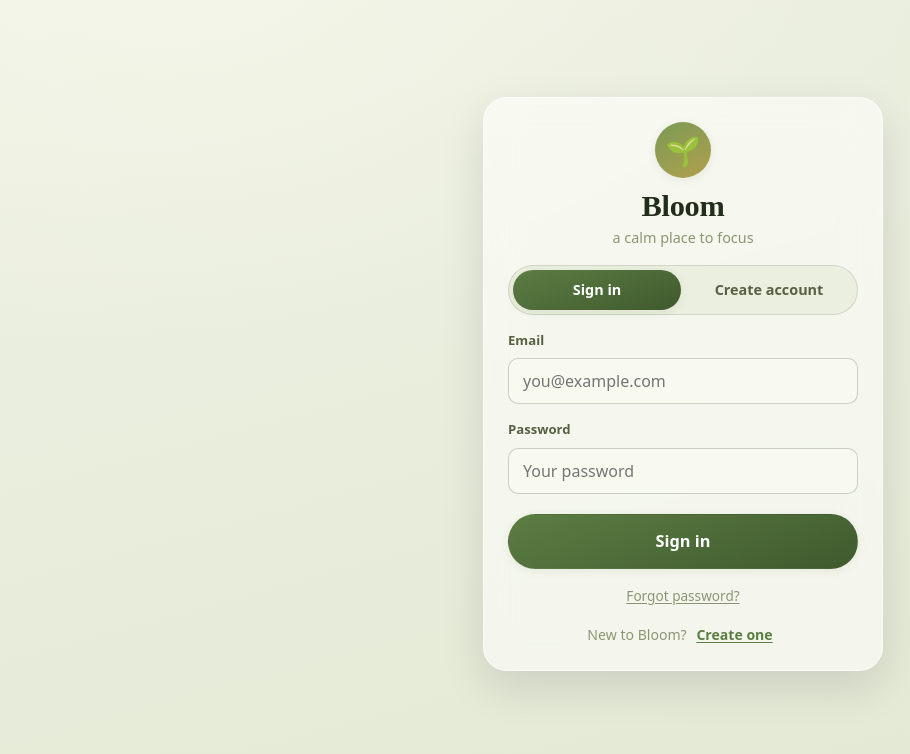
Test: LoginPage › sends a password reset for a valid email
In the field labelled "Email": [683, 381] box x1=508 y1=358 x2=858 y2=404, type "user@example.com"
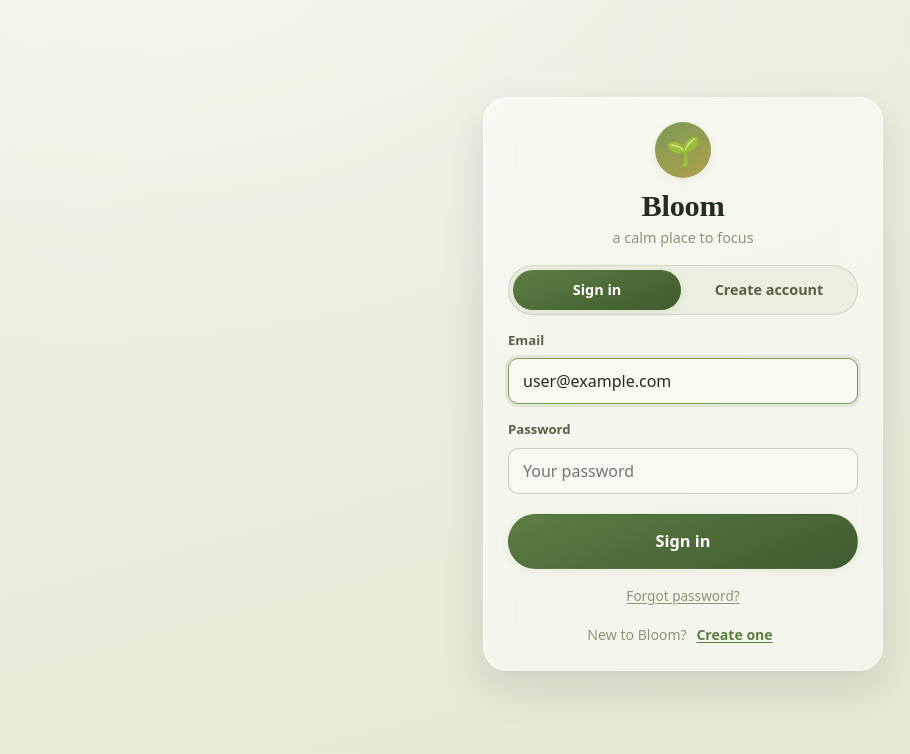
Click the button "Forgot password?": [683, 596] box x1=620 y1=584 x2=746 y2=607
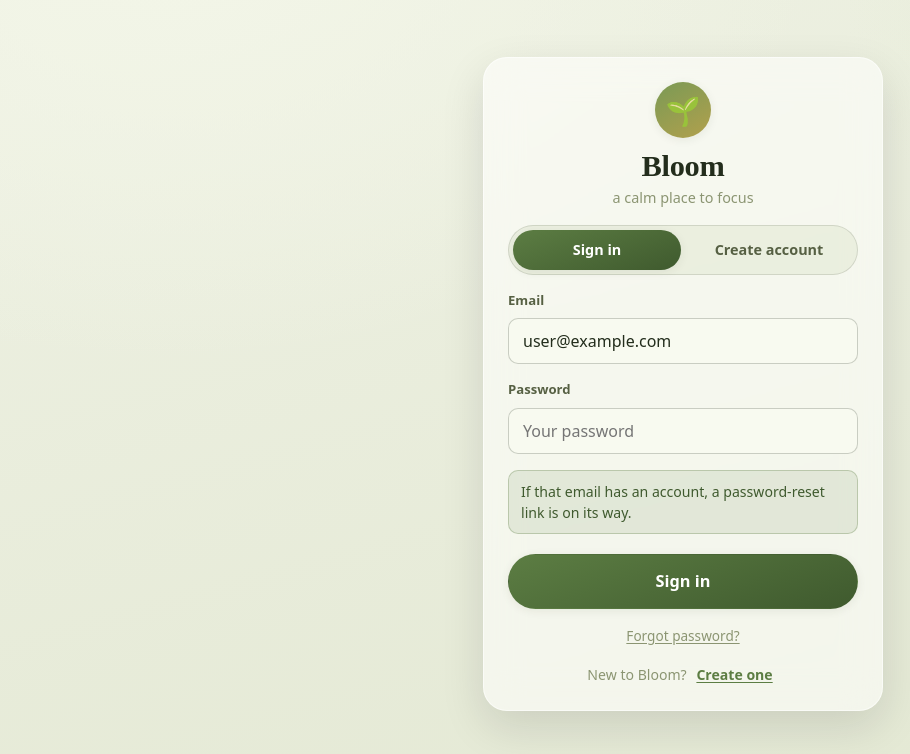
Now the message shows "reset link", box x1=521 y1=482 x2=825 y2=522
